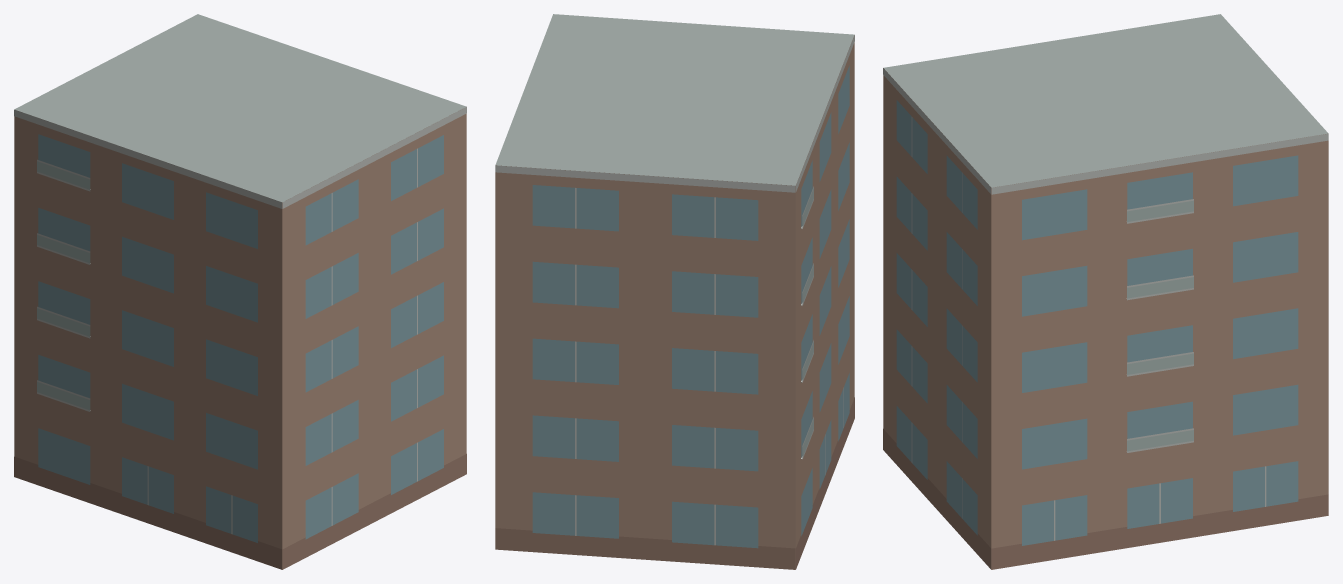
The model's file is survey-upis-32849960.glb.
3 renders of one model, left to right at view 1: azimuth 30°, elevation 25°; view 2: azimuth 150°, elevation 25°; view 3: azimuth 270°, elevation 25°, orthographic. The views are drawn at different scales.
Visible parts, largest first — view 1: survey-upis-32849960.tmp; view 2: survey-upis-32849960.tmp; view 3: survey-upis-32849960.tmp.
Part boxes in pixels (x1,y1,x2,y2): survey-upis-32849960.tmp: [14, 14, 466, 569]; survey-upis-32849960.tmp: [495, 14, 854, 569]; survey-upis-32849960.tmp: [883, 14, 1328, 569].
Bounding box in the file's own units: 12.98 × 13.3 × 14.06.
